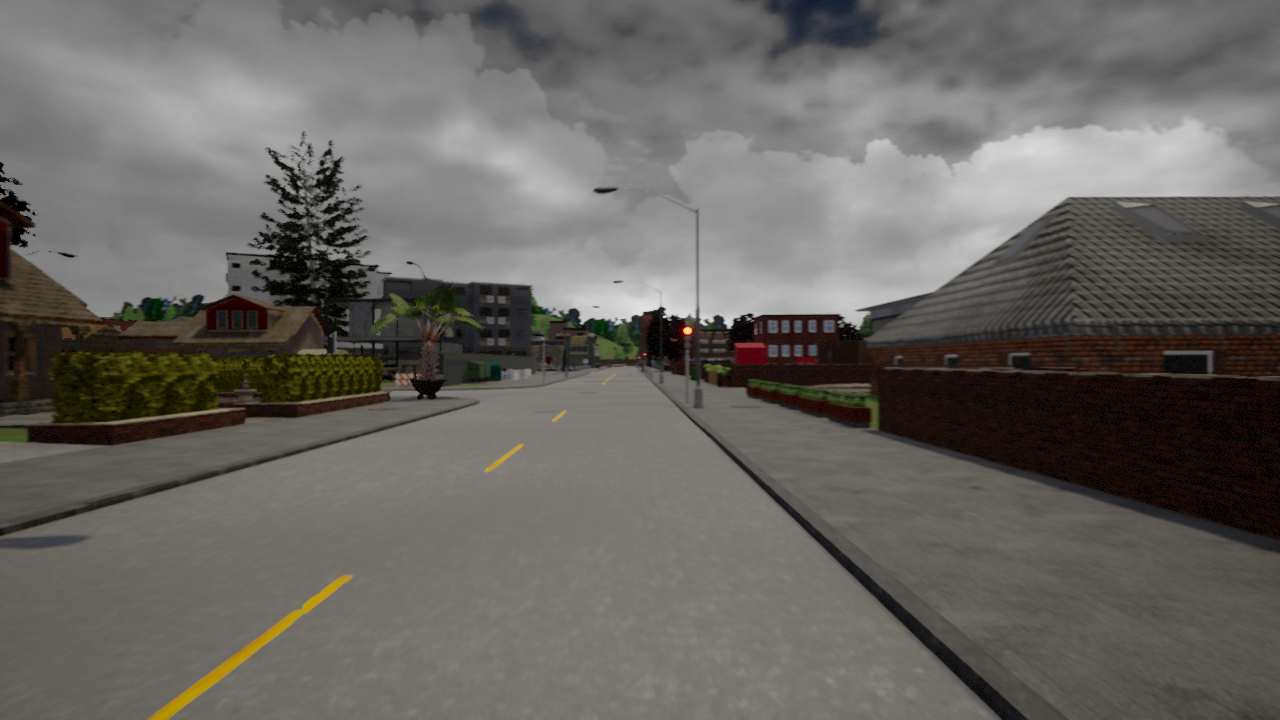red: (682, 324, 693, 351)
